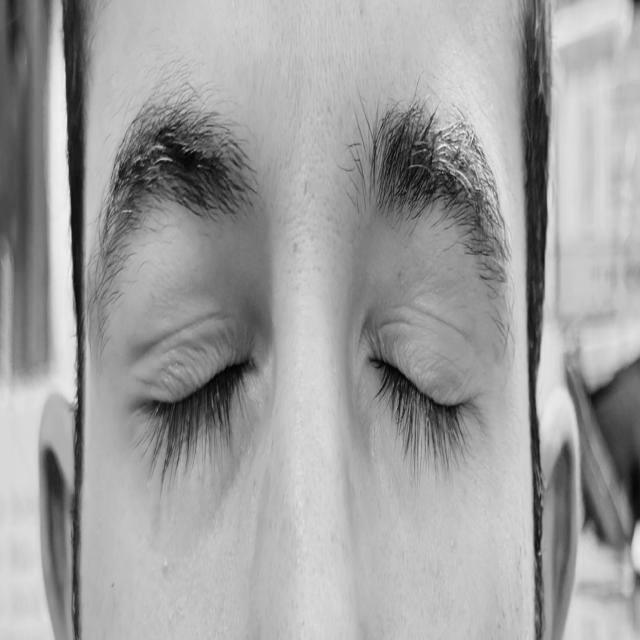real: (108, 218, 496, 543)
